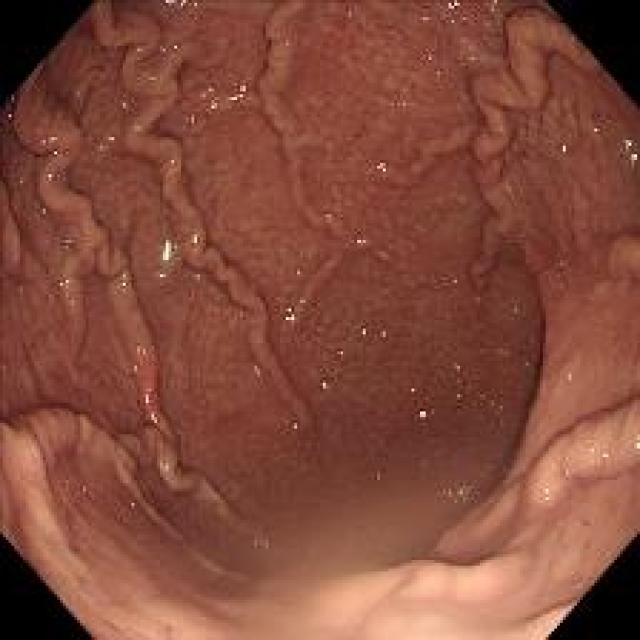blur: (246, 480, 481, 629)
specularity: (448, 361, 512, 431), (30, 118, 65, 164), (134, 379, 166, 425), (440, 479, 474, 506), (54, 274, 80, 308), (618, 129, 638, 172), (548, 134, 574, 164), (408, 402, 436, 429), (192, 84, 220, 110), (356, 320, 388, 341), (96, 130, 119, 159), (225, 81, 251, 106), (189, 234, 201, 284), (276, 299, 298, 325), (540, 480, 558, 509), (311, 376, 338, 394), (374, 155, 391, 181), (160, 0, 200, 11), (156, 235, 171, 264), (590, 446, 612, 464), (440, 0, 468, 12), (630, 429, 639, 456)
